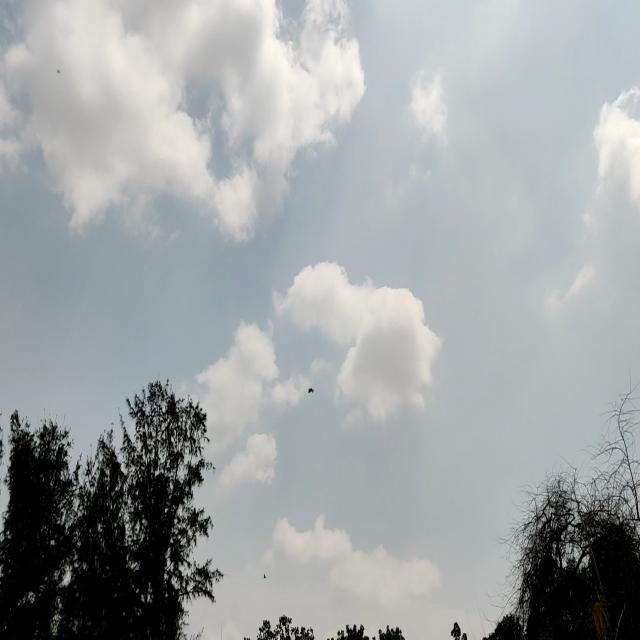drone: (302, 381, 319, 396)
